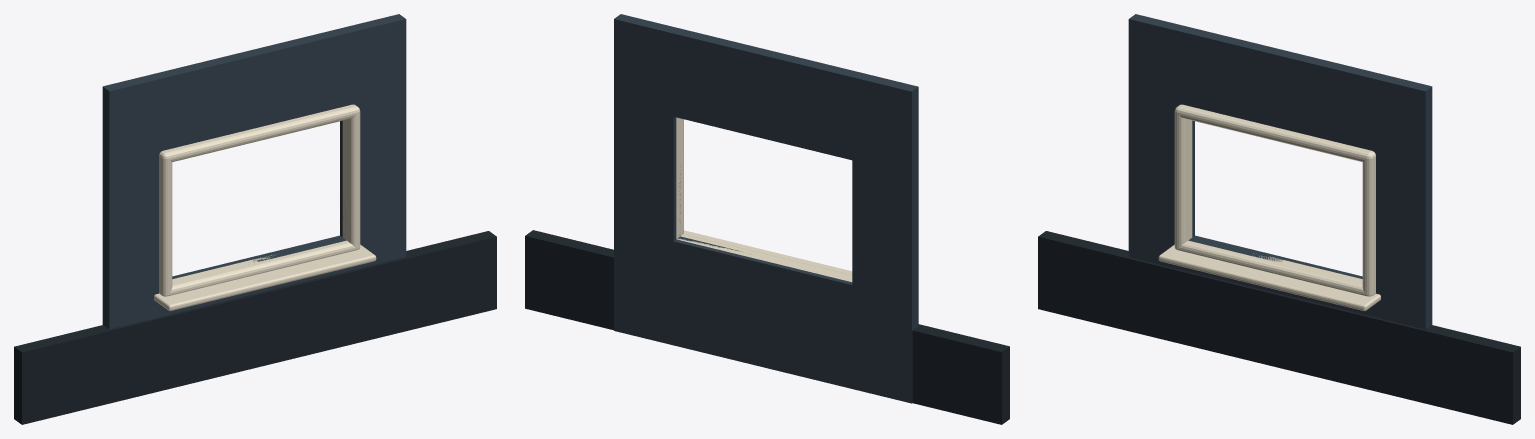
Rendered from ventana_tren.glb.
The picture shows the model from 3 angles, left to right: view 1: azimuth 30°, elevation 25°; view 2: azimuth 150°, elevation 25°; view 3: azimuth 330°, elevation 25°; orthographic projection.
Visible parts, largest first — view 1: Cube.004, Cube, Cube.003, Cube.001, Cube.009, Cube.006, Cube.005, Cube.008, Cube.007, Cube.002; view 2: Cube, Cube.001, Cube.002, Cube.003, Cube.004, Cube.005, Cube.008, Cube.009; view 3: Cube.004, Cube.001, Cube.003, Cube, Cube.009, Cube.006, Cube.005, Cube.007, Cube.008, Cube.002.
Boxes of the visible parts, <box> form: Cube.004: <box>14,231,496,424</box>; Cube: <box>102,72,168,329</box>; Cube.003: <box>162,28,346,149</box>; Cube.001: <box>340,14,406,271</box>; Cube.009: <box>154,244,376,311</box>; Cube.006: <box>159,104,360,162</box>; Cube.005: <box>159,240,359,296</box>; Cube.008: <box>342,104,360,249</box>; Cube.007: <box>159,150,172,295</box>; Cube.002: <box>168,235,346,314</box>; Cube: <box>852,72,918,403</box>; Cube.001: <box>614,14,680,345</box>; Cube.002: <box>673,236,852,388</box>; Cube.003: <box>673,28,858,160</box>; Cube.004: <box>525,230,1009,424</box>; Cube.005: <box>677,234,852,281</box>; Cube.008: <box>676,117,683,238</box>; Cube.009: <box>684,230,852,274</box>; Cube.004: <box>1038,231,1520,424</box>; Cube.001: <box>1366,72,1432,329</box>; Cube.003: <box>1188,28,1372,149</box>; Cube: <box>1128,14,1194,271</box>; Cube.009: <box>1158,244,1380,311</box>; Cube.006: <box>1174,104,1375,162</box>; Cube.005: <box>1174,240,1375,296</box>; Cube.007: <box>1174,104,1192,249</box>; Cube.008: <box>1362,150,1375,294</box>; Cube.002: <box>1188,235,1366,314</box>.
Size of the model in its own units: 4.8 by 3 by 0.39.
